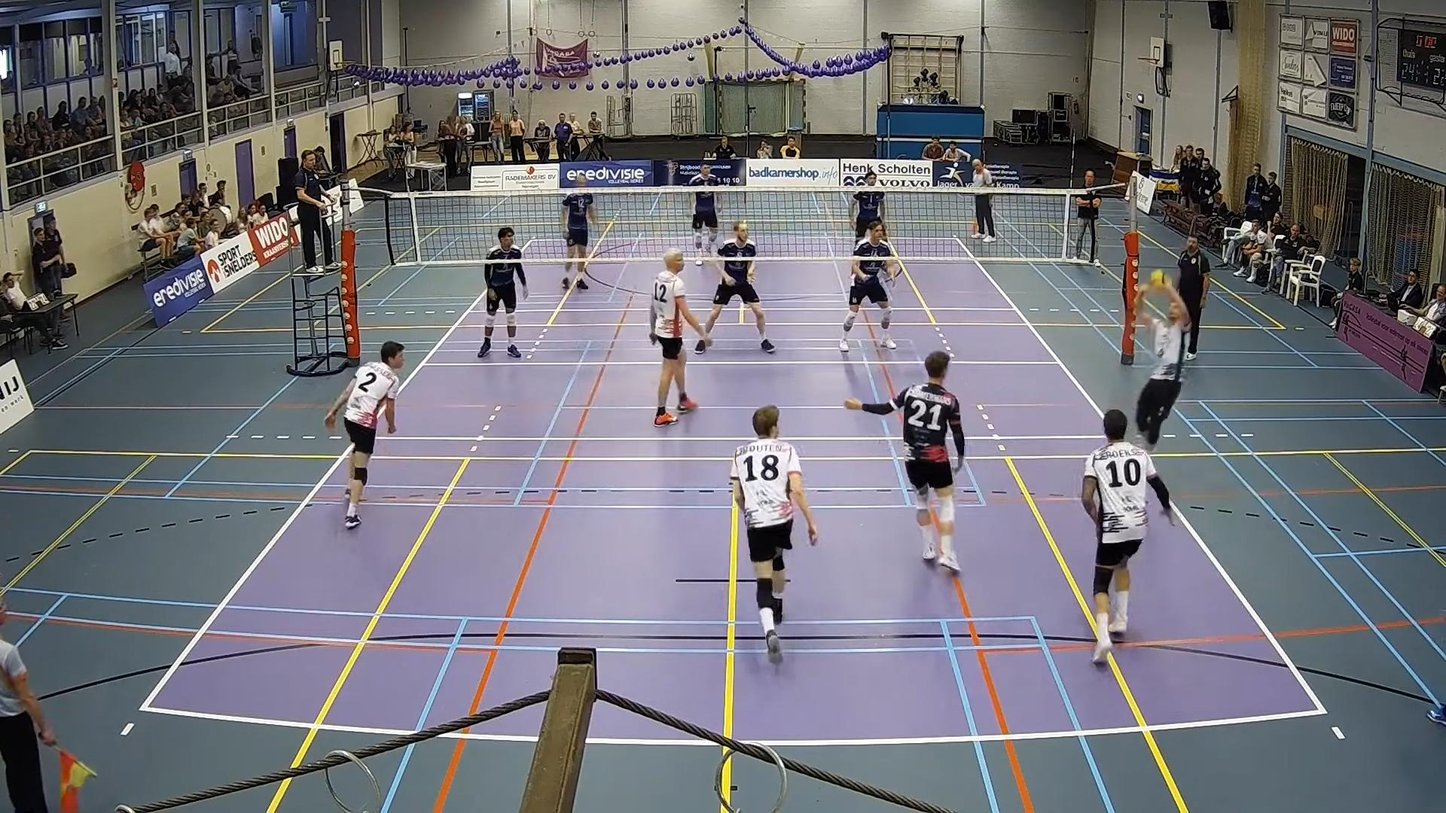Player: (844, 351, 965, 571), (1081, 410, 1173, 662), (731, 406, 818, 662), (325, 341, 404, 528), (650, 248, 711, 426), (704, 221, 775, 352), (839, 220, 897, 352), (477, 227, 526, 358), (561, 177, 596, 290), (688, 163, 719, 265), (850, 170, 884, 239)
Set: (1131, 278, 1192, 444)
ball: (1151, 270, 1170, 288)
